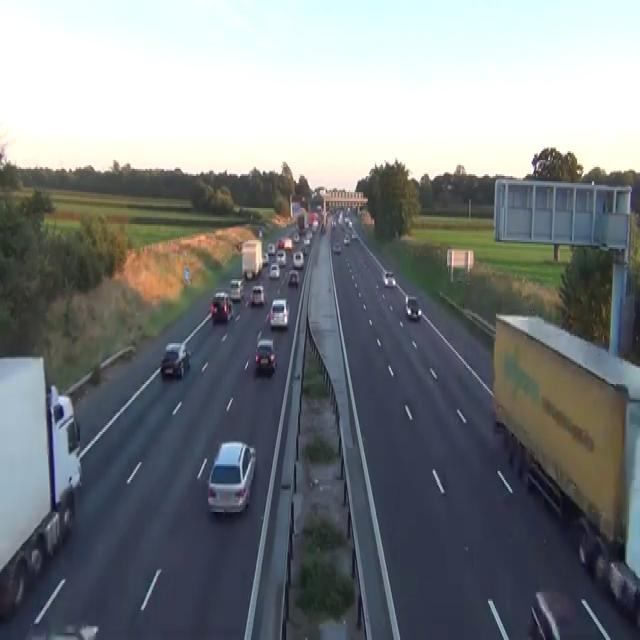Car: (528, 588, 612, 638), (206, 439, 256, 516), (608, 558, 639, 626), (160, 341, 191, 379), (47, 622, 99, 638), (210, 290, 233, 324), (254, 338, 276, 373), (269, 297, 289, 329), (492, 402, 506, 432), (405, 295, 421, 320), (229, 278, 244, 300), (250, 284, 264, 306), (381, 268, 395, 286), (287, 268, 299, 286), (292, 250, 303, 268), (276, 249, 286, 267), (269, 263, 279, 279), (237, 279, 244, 299), (283, 236, 293, 249), (331, 240, 341, 252), (291, 229, 299, 242), (262, 251, 269, 265), (301, 242, 308, 256), (267, 242, 275, 254), (311, 220, 318, 233), (244, 269, 253, 279), (343, 233, 350, 245), (305, 228, 312, 240), (277, 238, 284, 249), (351, 229, 357, 240), (303, 237, 310, 246), (315, 204, 322, 212), (321, 222, 326, 233), (331, 219, 336, 229), (344, 215, 349, 224), (348, 218, 352, 228), (258, 228, 262, 238)
Truck: (492, 311, 639, 626), (0, 354, 82, 617), (241, 238, 262, 279)
